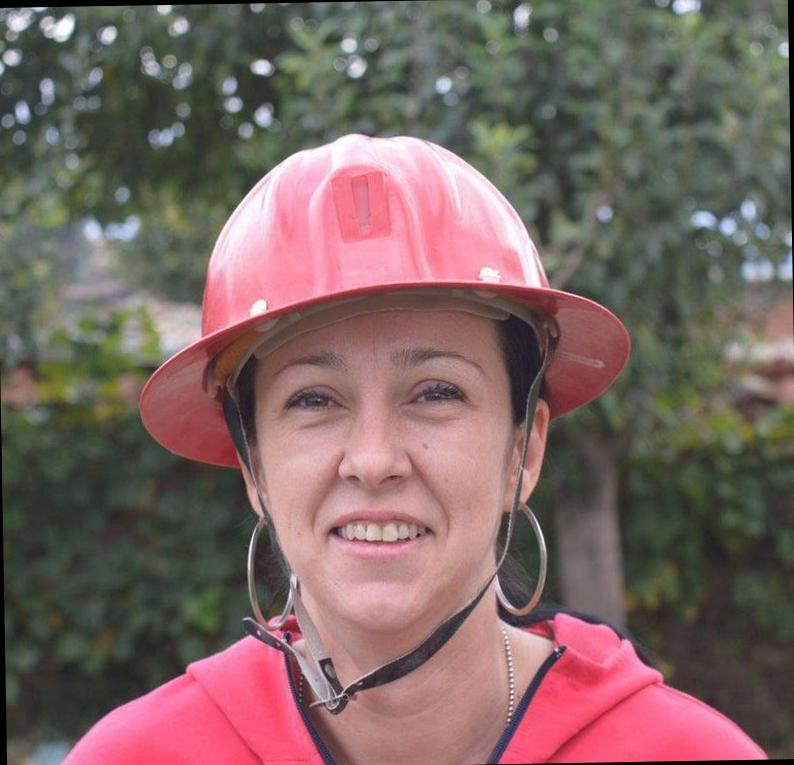helmet: (127, 128, 655, 444)
person: (113, 140, 670, 762)
